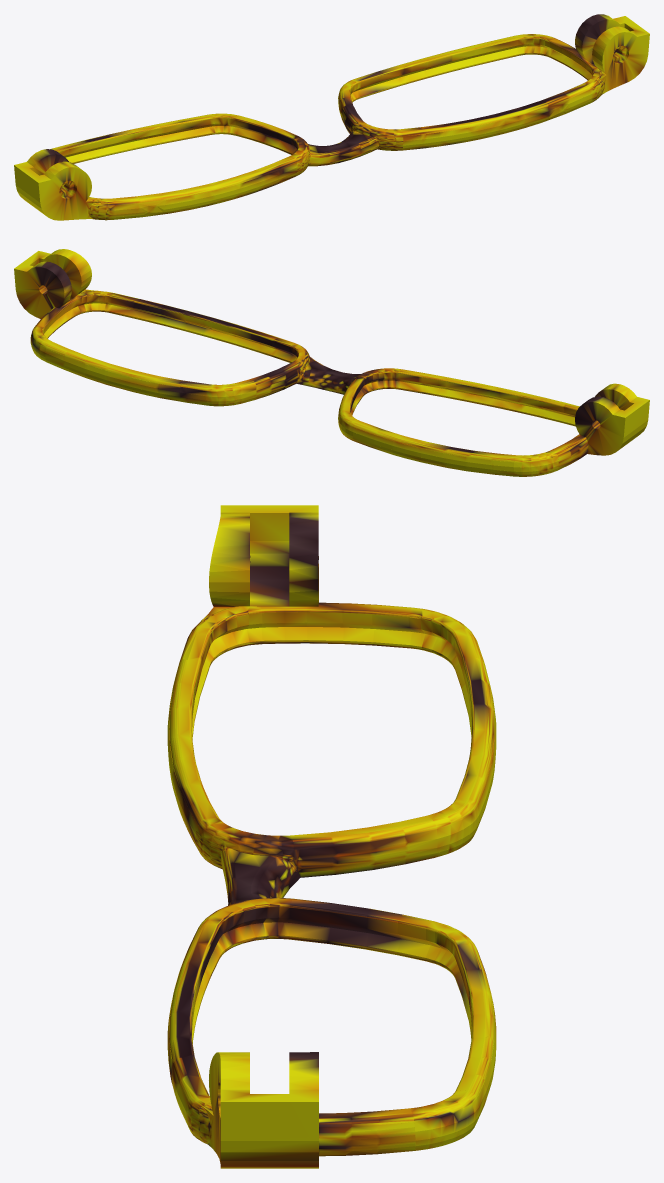
Rendered from eyeglass1_final300.obj.
3 renders of one model, top to bottom at view 1: azimuth 30°, elevation 25°; view 2: azimuth 150°, elevation 25°; view 3: azimuth 270°, elevation 25°, orthographic. The views are drawn at different scales.
Size of the model in its own units: 1.97 by 0.2013 by 0.4584.
